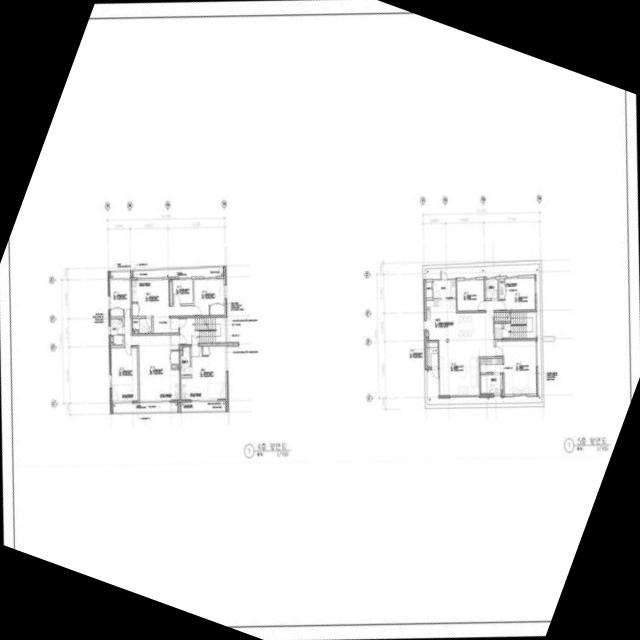background: (0, 0, 640, 640)
space_balconi: (425, 264, 542, 405), (134, 267, 223, 278), (113, 403, 178, 413), (181, 402, 226, 411), (111, 271, 130, 278)
space_bedroom: (480, 340, 536, 394), (192, 346, 226, 399), (111, 348, 138, 401), (499, 278, 535, 310), (194, 279, 225, 316), (457, 280, 484, 311), (110, 281, 131, 317), (173, 280, 193, 304)
space_front: (171, 335, 179, 350), (171, 318, 179, 333), (494, 324, 502, 339), (192, 346, 202, 357)
space_kitchen: (426, 300, 486, 340), (181, 378, 208, 400), (164, 364, 180, 401), (433, 280, 456, 298), (132, 280, 146, 303)
space_living_room: (439, 301, 499, 395), (125, 319, 179, 401), (132, 280, 193, 333)
space_other: (427, 342, 438, 367), (426, 282, 432, 298), (170, 279, 172, 304), (172, 366, 179, 368), (111, 338, 113, 345), (180, 347, 182, 354), (133, 331, 138, 333), (499, 279, 504, 281), (427, 332, 428, 340)
space_staircase: (180, 318, 226, 344), (494, 312, 536, 339)
space_toilet: (481, 375, 503, 393), (111, 319, 123, 345), (132, 319, 152, 333), (181, 347, 190, 375), (486, 279, 498, 298)
